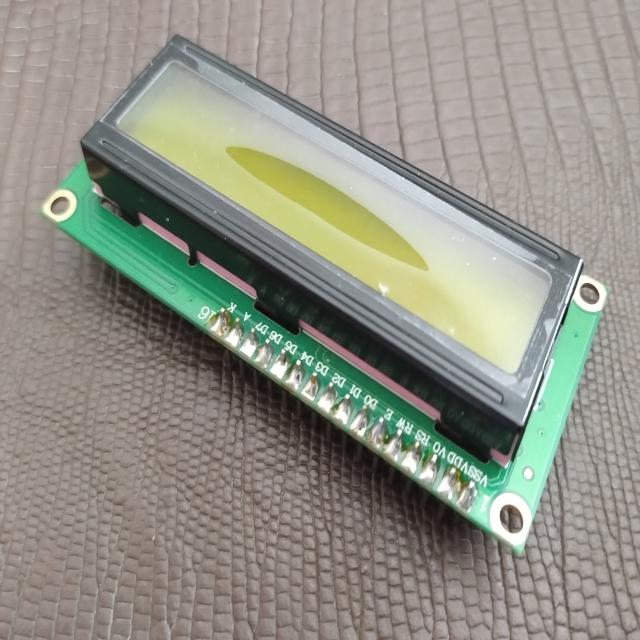lcd: (40, 32, 606, 557)
